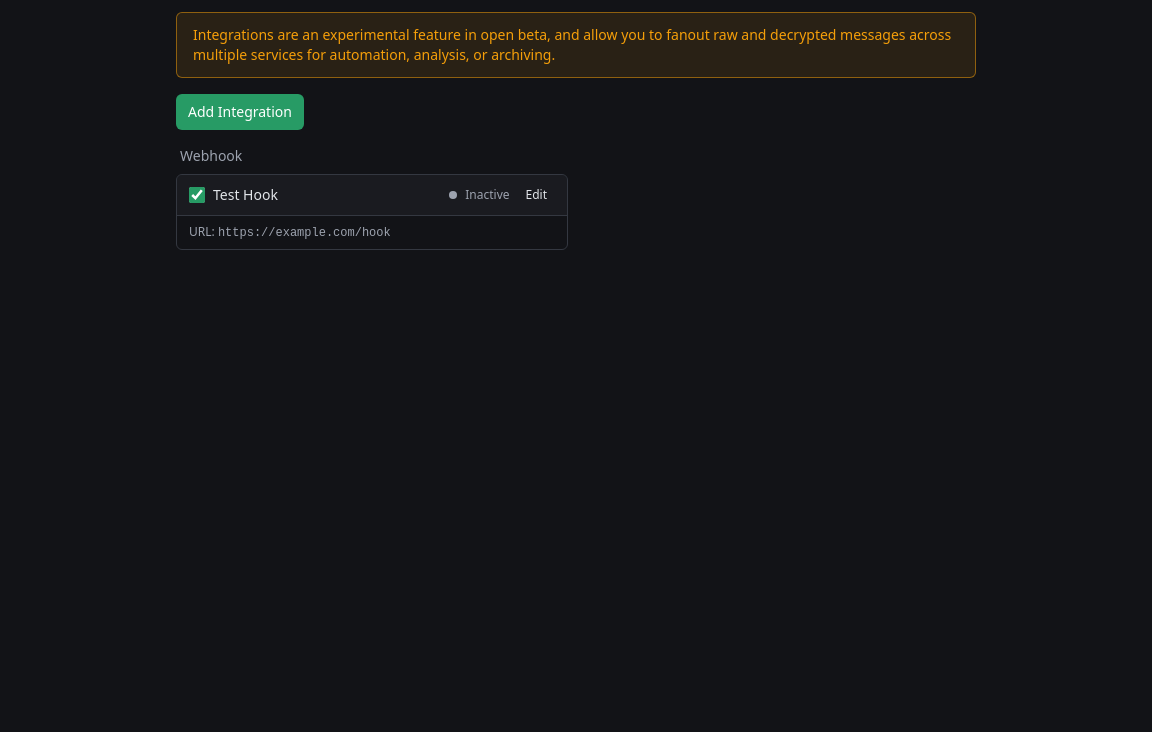
Test case: SettingsFanoutSection › navigates to edit view when clicking edit
Expected: the button "Test Hook" is shown, [213,185,278,205]
Click the button "Edit" at x=536, y=195, box [518,183,555,207]
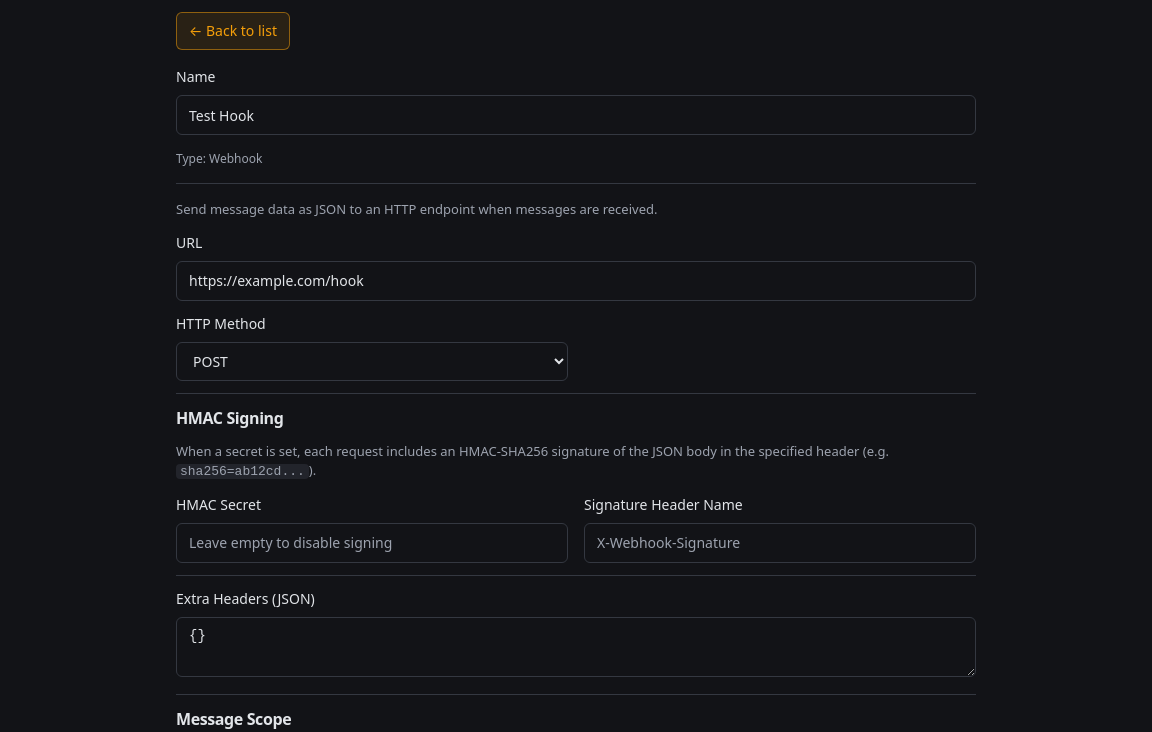
Now the button "← Back to list" is shown, box [176,12,290,50]
